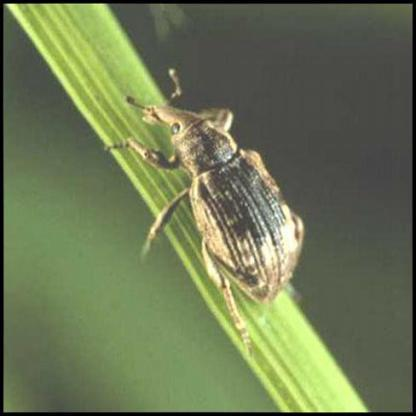rice-bug: (128, 85, 303, 311)
